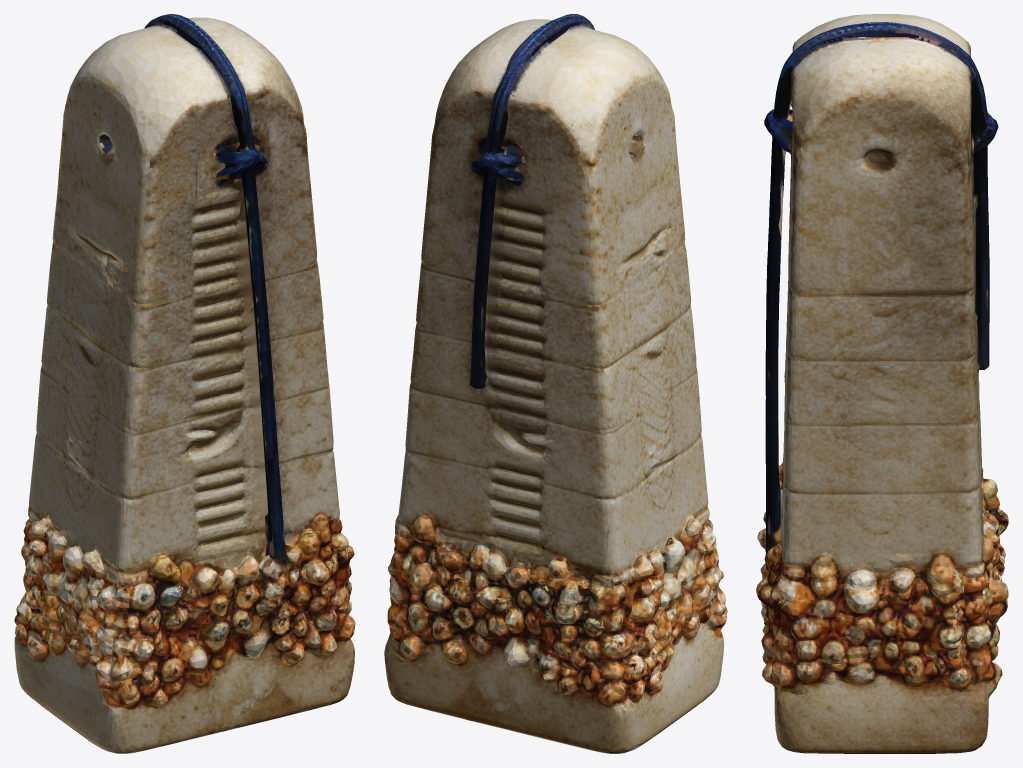
The model's file is doji_tide_cave_marker.glb.
3 renders of one model, left to right at view 1: azimuth 30°, elevation 25°; view 2: azimuth 150°, elevation 25°; view 3: azimuth 270°, elevation 25°, orthographic.
Visible parts, largest first — view 1: temp_mesh.ply; view 2: temp_mesh.ply; view 3: temp_mesh.ply.
Boxes of the visible parts, x1=… form: temp_mesh.ply: x1=14, y1=14, x2=355, y2=753; temp_mesh.ply: x1=384, y1=14, x2=727, y2=753; temp_mesh.ply: x1=756, y1=14, x2=1008, y2=753.
Size of the model in its own units: 0.8049 by 1.95 by 0.6593.
1 material, 1 textured.
